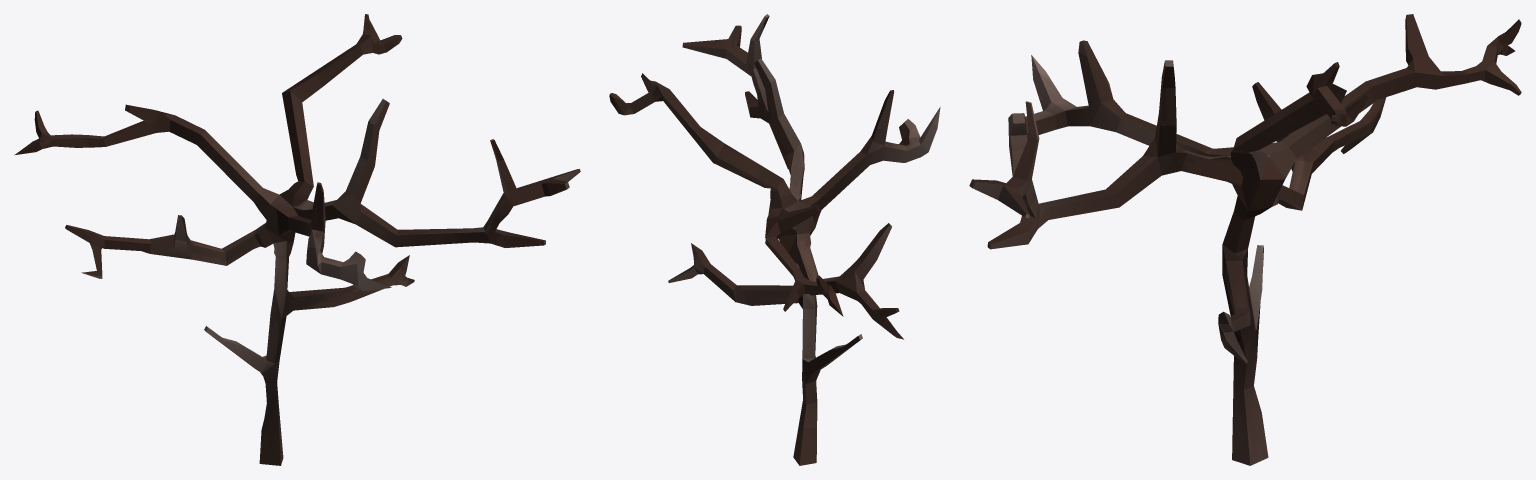
File: Tree04.fbx
3 views of the same model, side by side, from view 1: azimuth 30°, elevation 25°; view 2: azimuth 150°, elevation 25°; view 3: azimuth 270°, elevation 25° (orthographic). The views are drawn at different scales.
Visible parts, largest first — view 1: Tree_04; view 2: Tree_04; view 3: Tree_04.
Boxes of the visible parts, bbox=[...] form: Tree_04: bbox=[14, 14, 580, 465]; Tree_04: bbox=[609, 14, 940, 465]; Tree_04: bbox=[969, 14, 1521, 465].
Size of the model in its own units: 6.36 by 6.43 by 6.79.
Materials: 1 (1 with a texture image).
